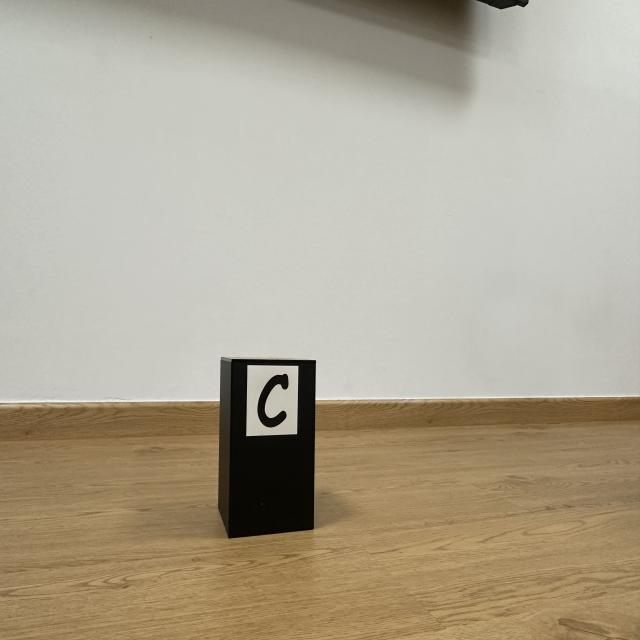C: (258, 375, 289, 428)
